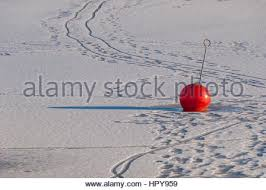buoy: (180, 83, 211, 113)
